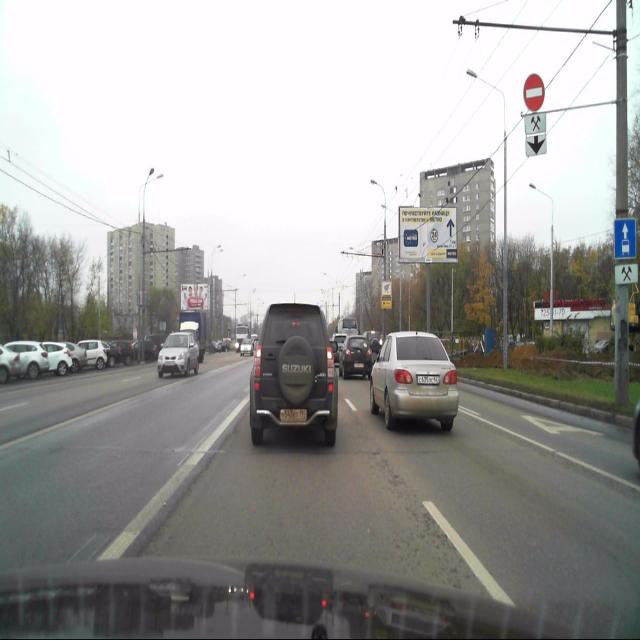road sign: (615, 216, 636, 258), (615, 262, 638, 284), (524, 115, 546, 132)
